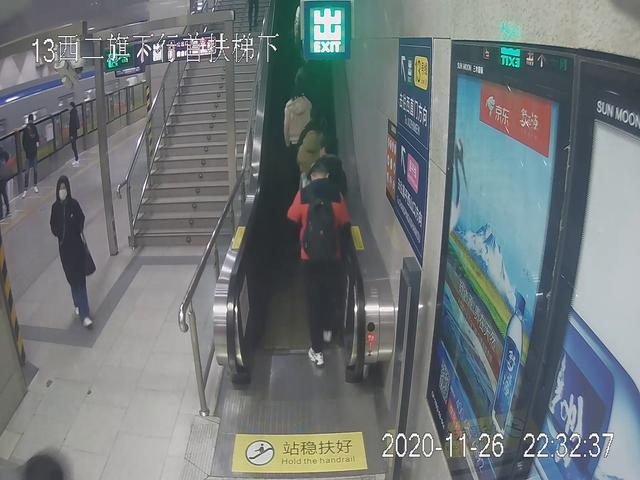person: (285, 164, 352, 365), (47, 175, 95, 325), (280, 84, 317, 181), (21, 115, 41, 198), (67, 100, 82, 166)
